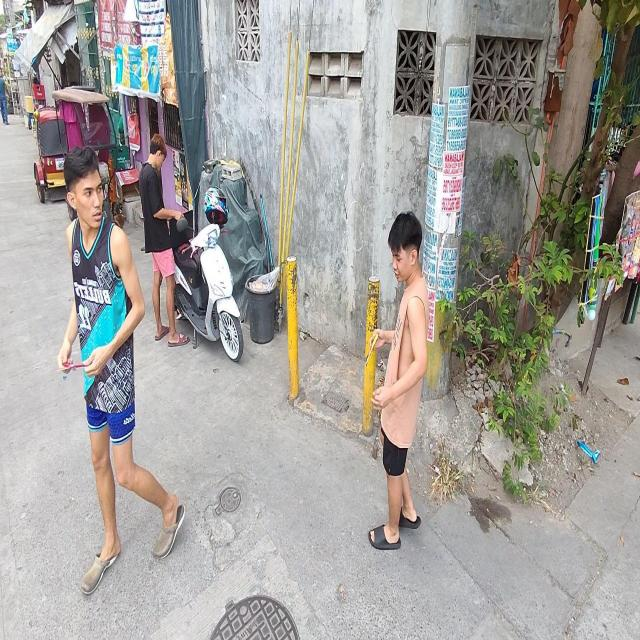scissor: (57, 360, 92, 372), (366, 334, 378, 365)
